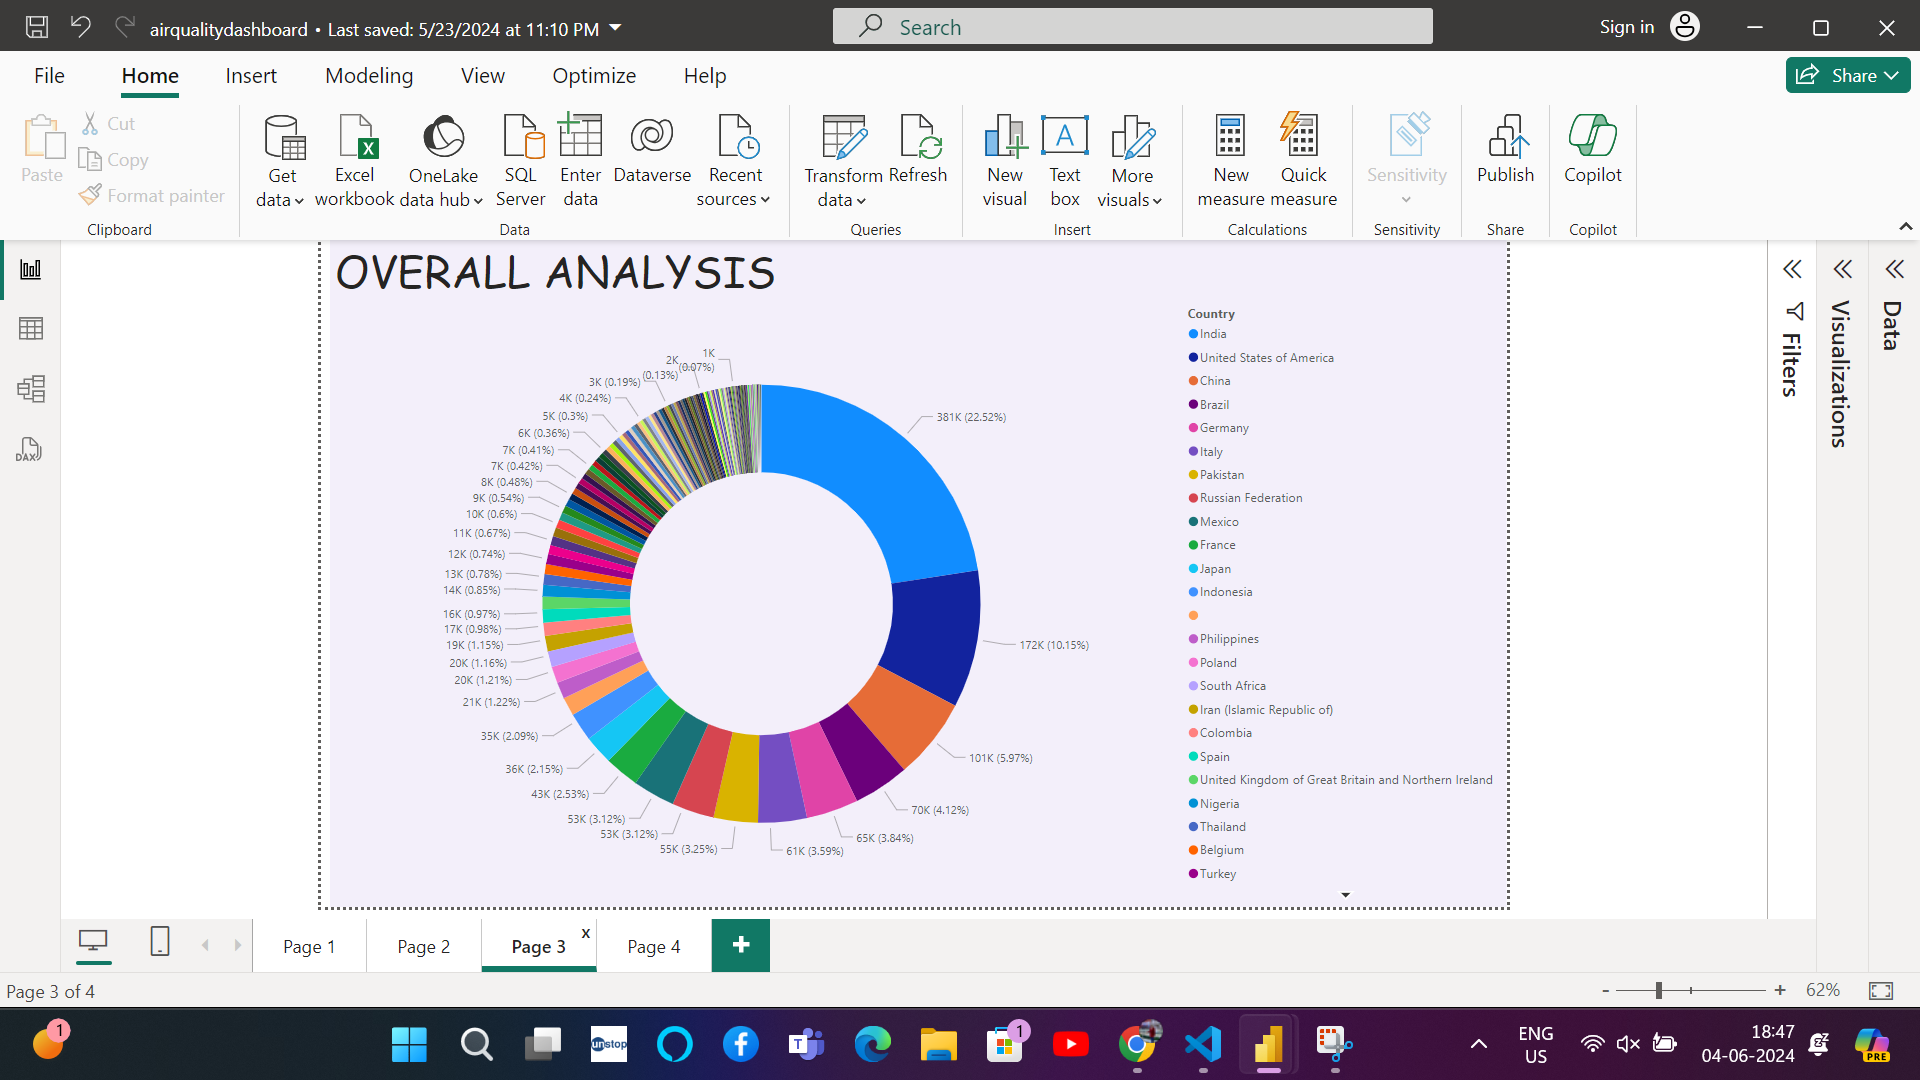

What the dashboard file says about the page in this screenshot:
{"tool":"powerbi","page":{"name":"Page 3","canvas":[1280,720],"ordinal":2},"visuals":[{"type":"donutChart","title":"OVERALL ANALYSIS ","fields":{"Y":["Sum(global air pollution dataset.AQI Value)"],"Category":["global air pollution dataset.Country"]},"box":[9.4,0,1269.9,720],"z":0}]}

Visuals, with their boxes on the page's 1280x720 design canvas (x1, y1, x2, y2). These are canvas units, not pixel positions in the 1920x1080 screenshot, which may show the page scaled, cropped or inside an application window:
"OVERALL ANALYSIS " donutChart: locate(9, 0, 1279, 720)
